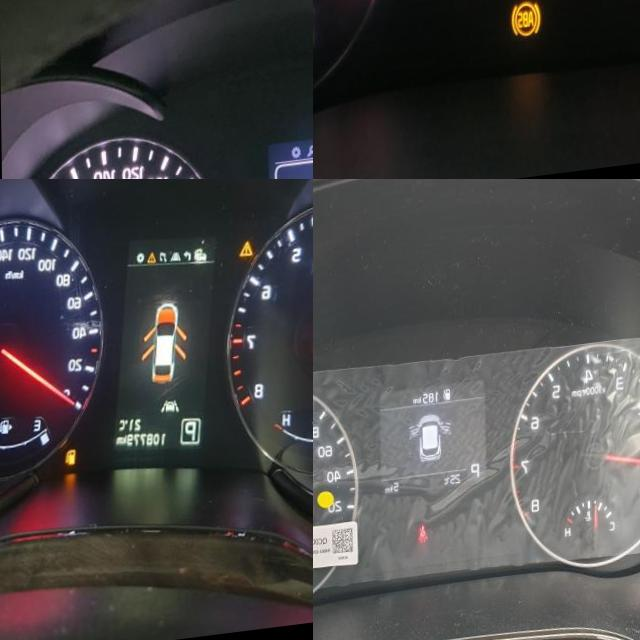Central Warning lamp: (240, 247, 254, 267)
Low fuel level: (66, 452, 77, 471)
